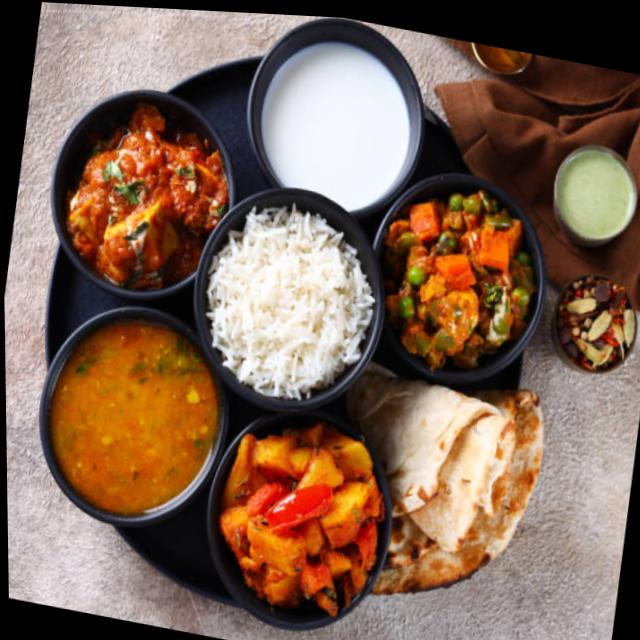CHAPATHI: (346, 368, 549, 594)
CURRY: (66, 107, 234, 289), (387, 193, 533, 356)
RICE: (211, 210, 374, 399)
SAMBAR: (56, 325, 210, 508)
VEGGIES: (228, 424, 385, 619)
WHITE CHUTNEY: (268, 47, 409, 212)
